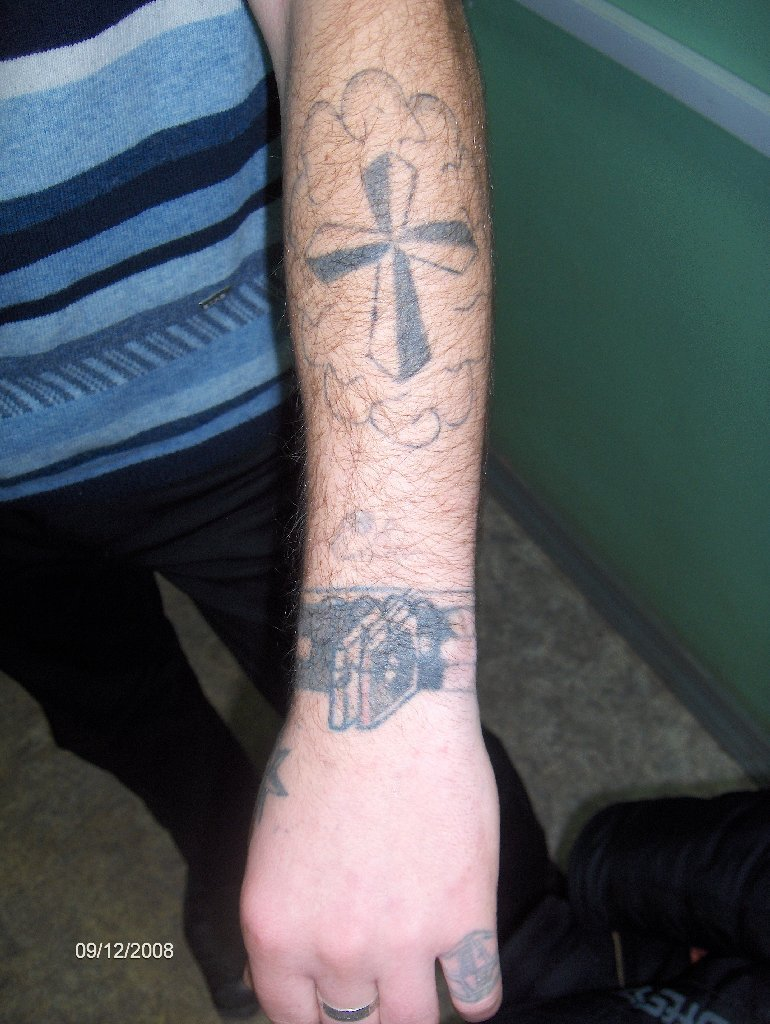tatu9_krest: (301, 146, 485, 386)
